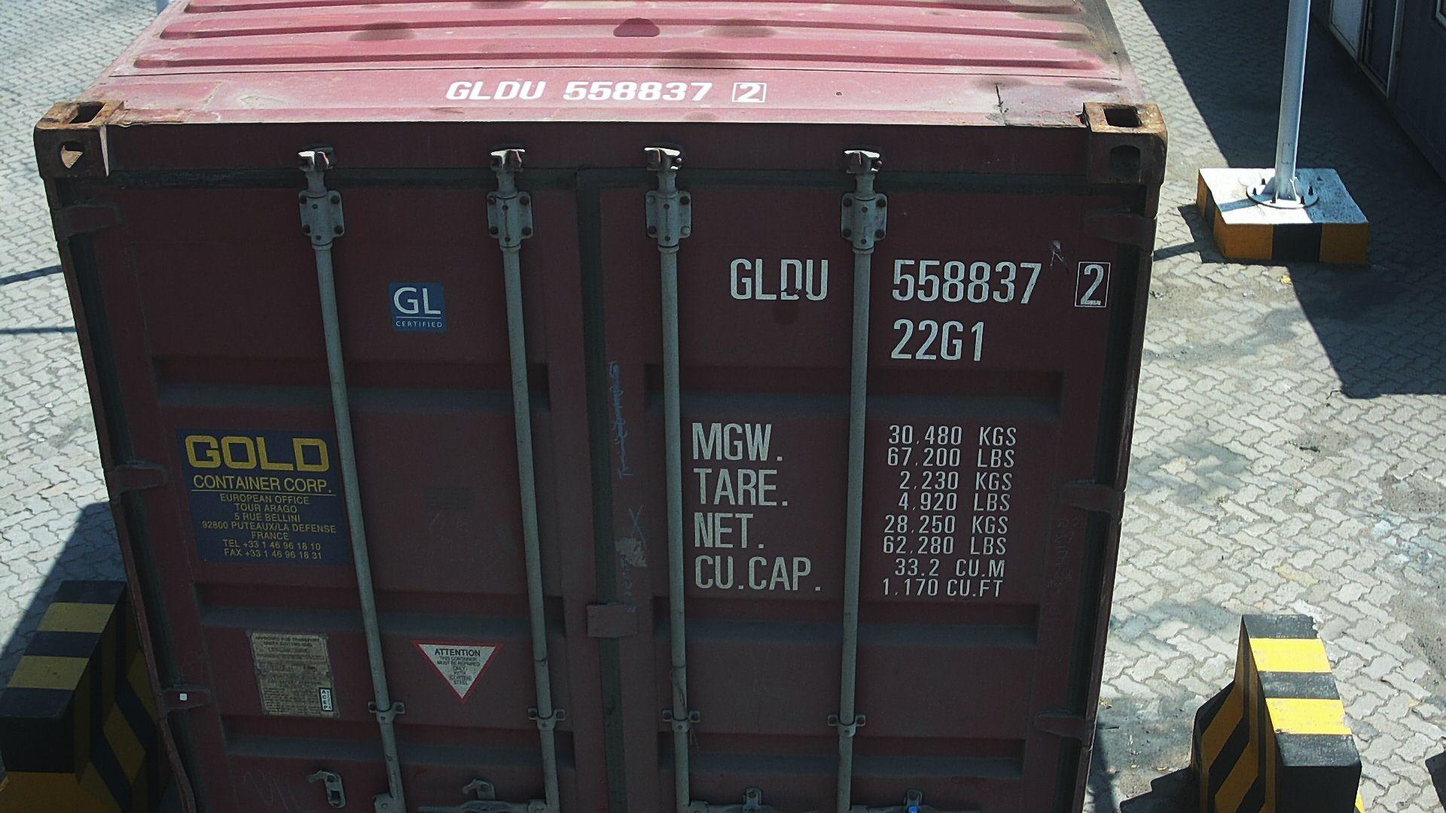container-numbers: (726, 254, 1116, 311), (436, 77, 773, 105), (887, 315, 990, 365)
